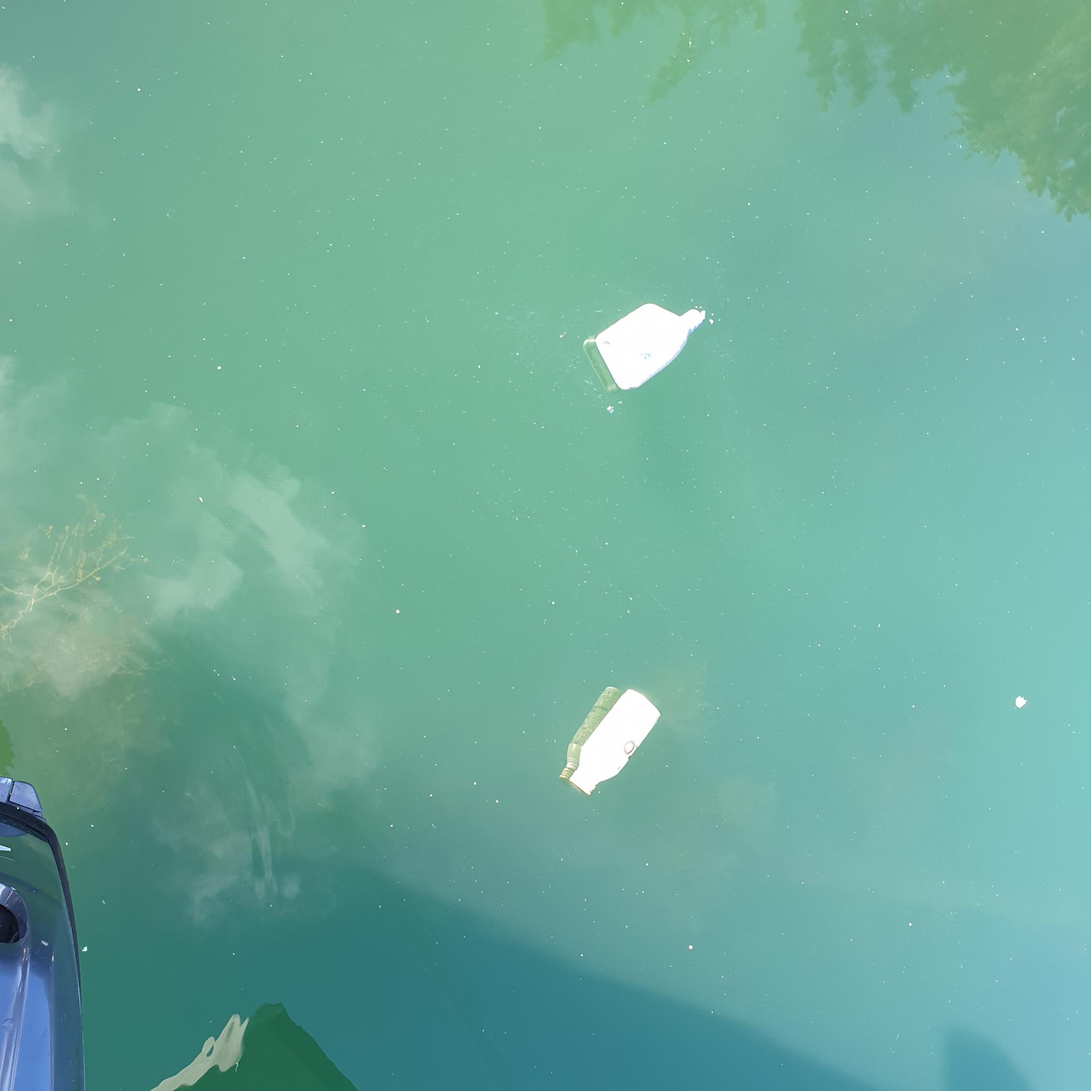sampah_terapung: (570, 690, 661, 796), (596, 304, 704, 391)
